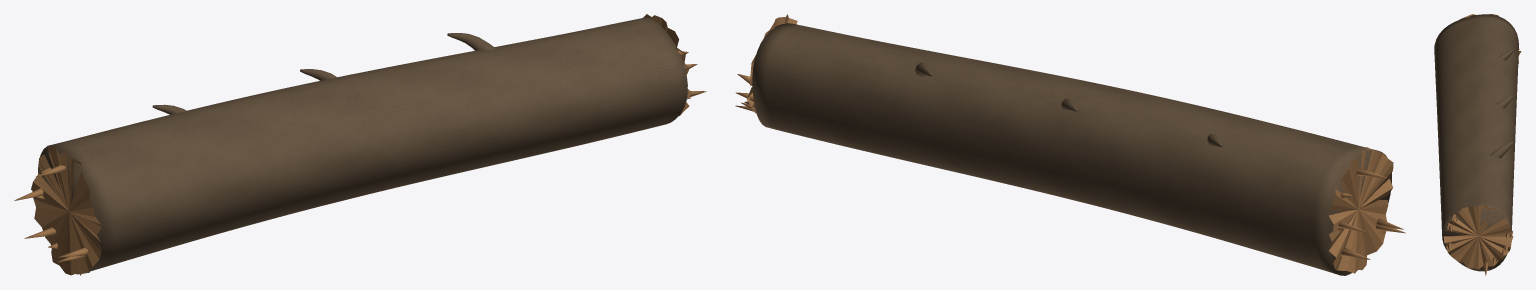
Rendered from GF2_FallenTrunk_32.fbx.
3 views of the same model, side by side, from view 1: azimuth 30°, elevation 25°; view 2: azimuth 150°, elevation 25°; view 3: azimuth 270°, elevation 25° (orthographic). The views are drawn at different scales.
Parts seen in each view (by area): view 1: GF2_FallenTrunk_32.001; view 2: GF2_FallenTrunk_32.001; view 3: GF2_FallenTrunk_32.001.
Part boxes in pixels (bbox=[...]): GF2_FallenTrunk_32.001: bbox=[14, 14, 706, 275]; GF2_FallenTrunk_32.001: bbox=[735, 14, 1405, 275]; GF2_FallenTrunk_32.001: bbox=[1434, 14, 1521, 275].
Size of the model in its own units: 35.79 by 6.34 by 6.42.
Materials: 2 (2 with a texture image).
